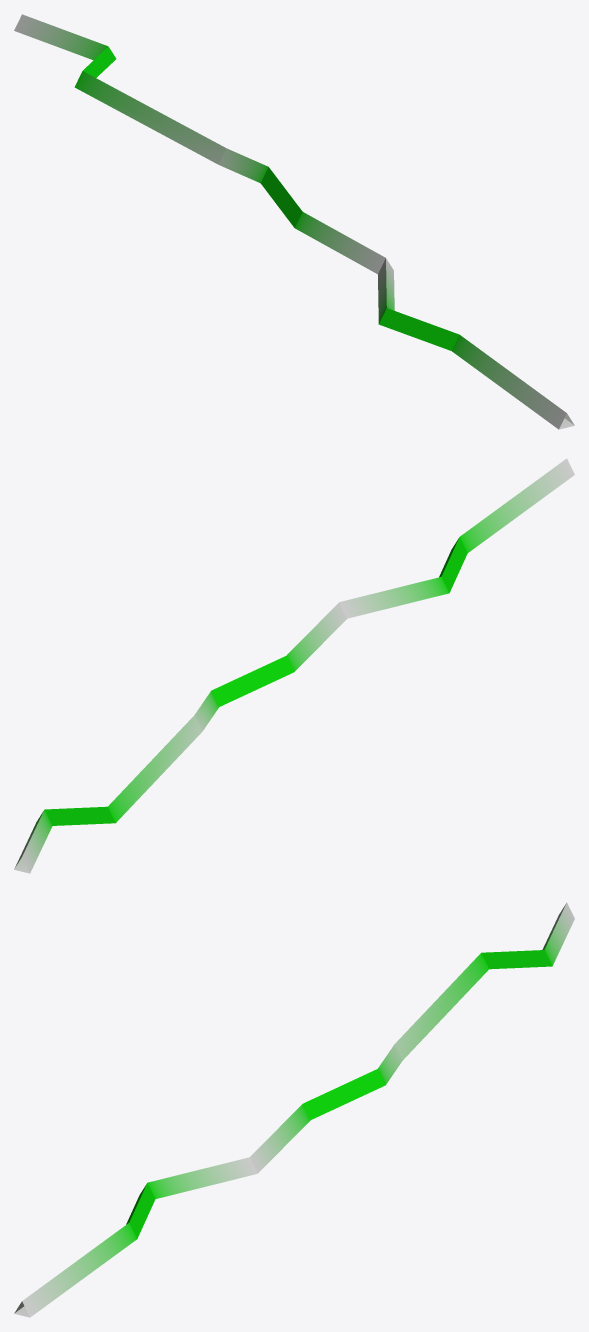
Rendered from Gate_exit_fx.fbx.
The picture shows the model from 3 angles, top to bottom: view 1: azimuth 30°, elevation 25°; view 2: azimuth 150°, elevation 25°; view 3: azimuth 330°, elevation 25°; orthographic projection.
Parts seen in each view (by area): view 1: Cylinder; view 2: Cylinder; view 3: Cylinder.
Boxes of the visible parts, x1,y1,x2,y2 form: Cylinder: (14,14,574,429); Cylinder: (14,458,574,873); Cylinder: (14,902,574,1317).
Bounding box in the file's own units: 0.7882 × 9.86 × 0.1458.
